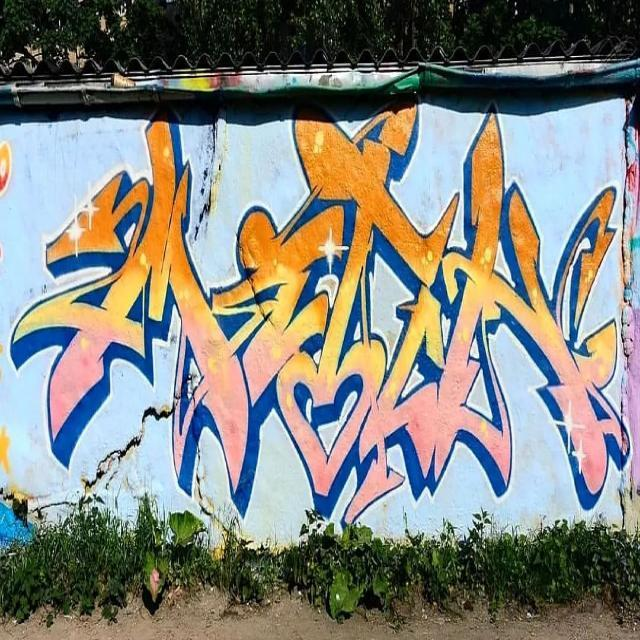-: (6, 91, 626, 538)
